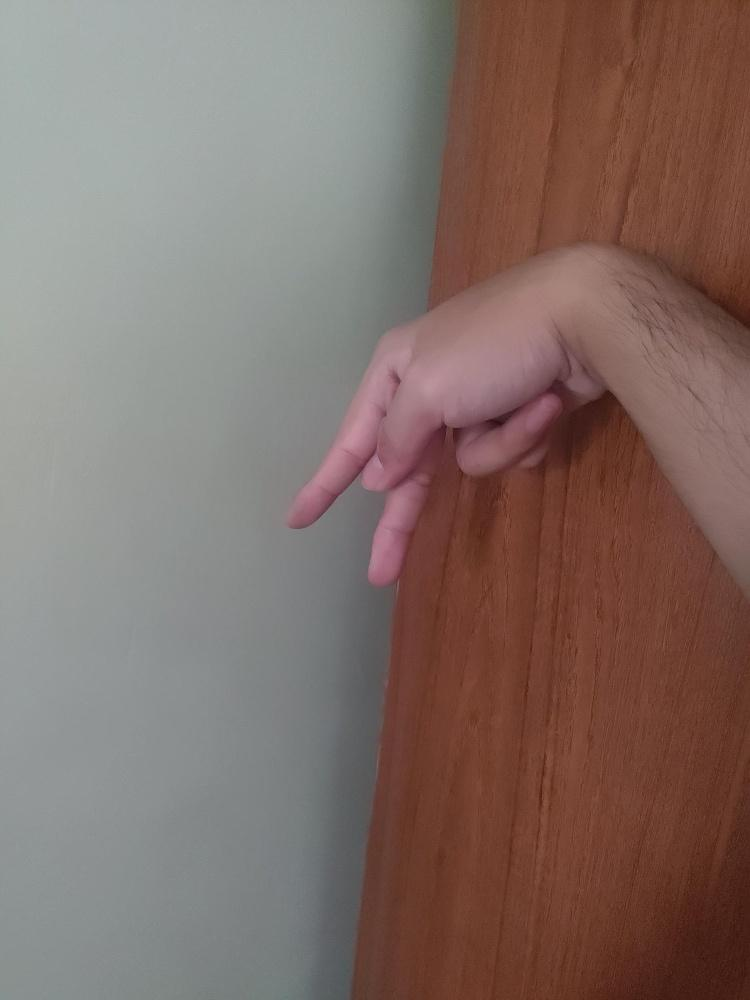p: (281, 242, 635, 586)
